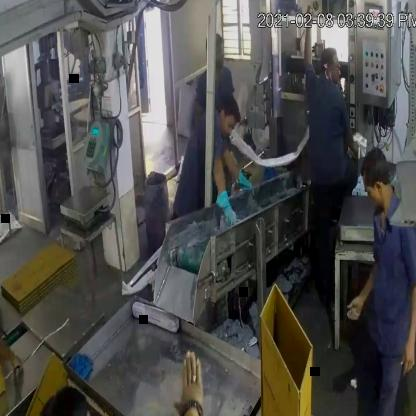glove: (212, 155, 237, 231)
no_glove: (335, 250, 381, 338), (167, 346, 214, 416), (399, 264, 416, 386)
